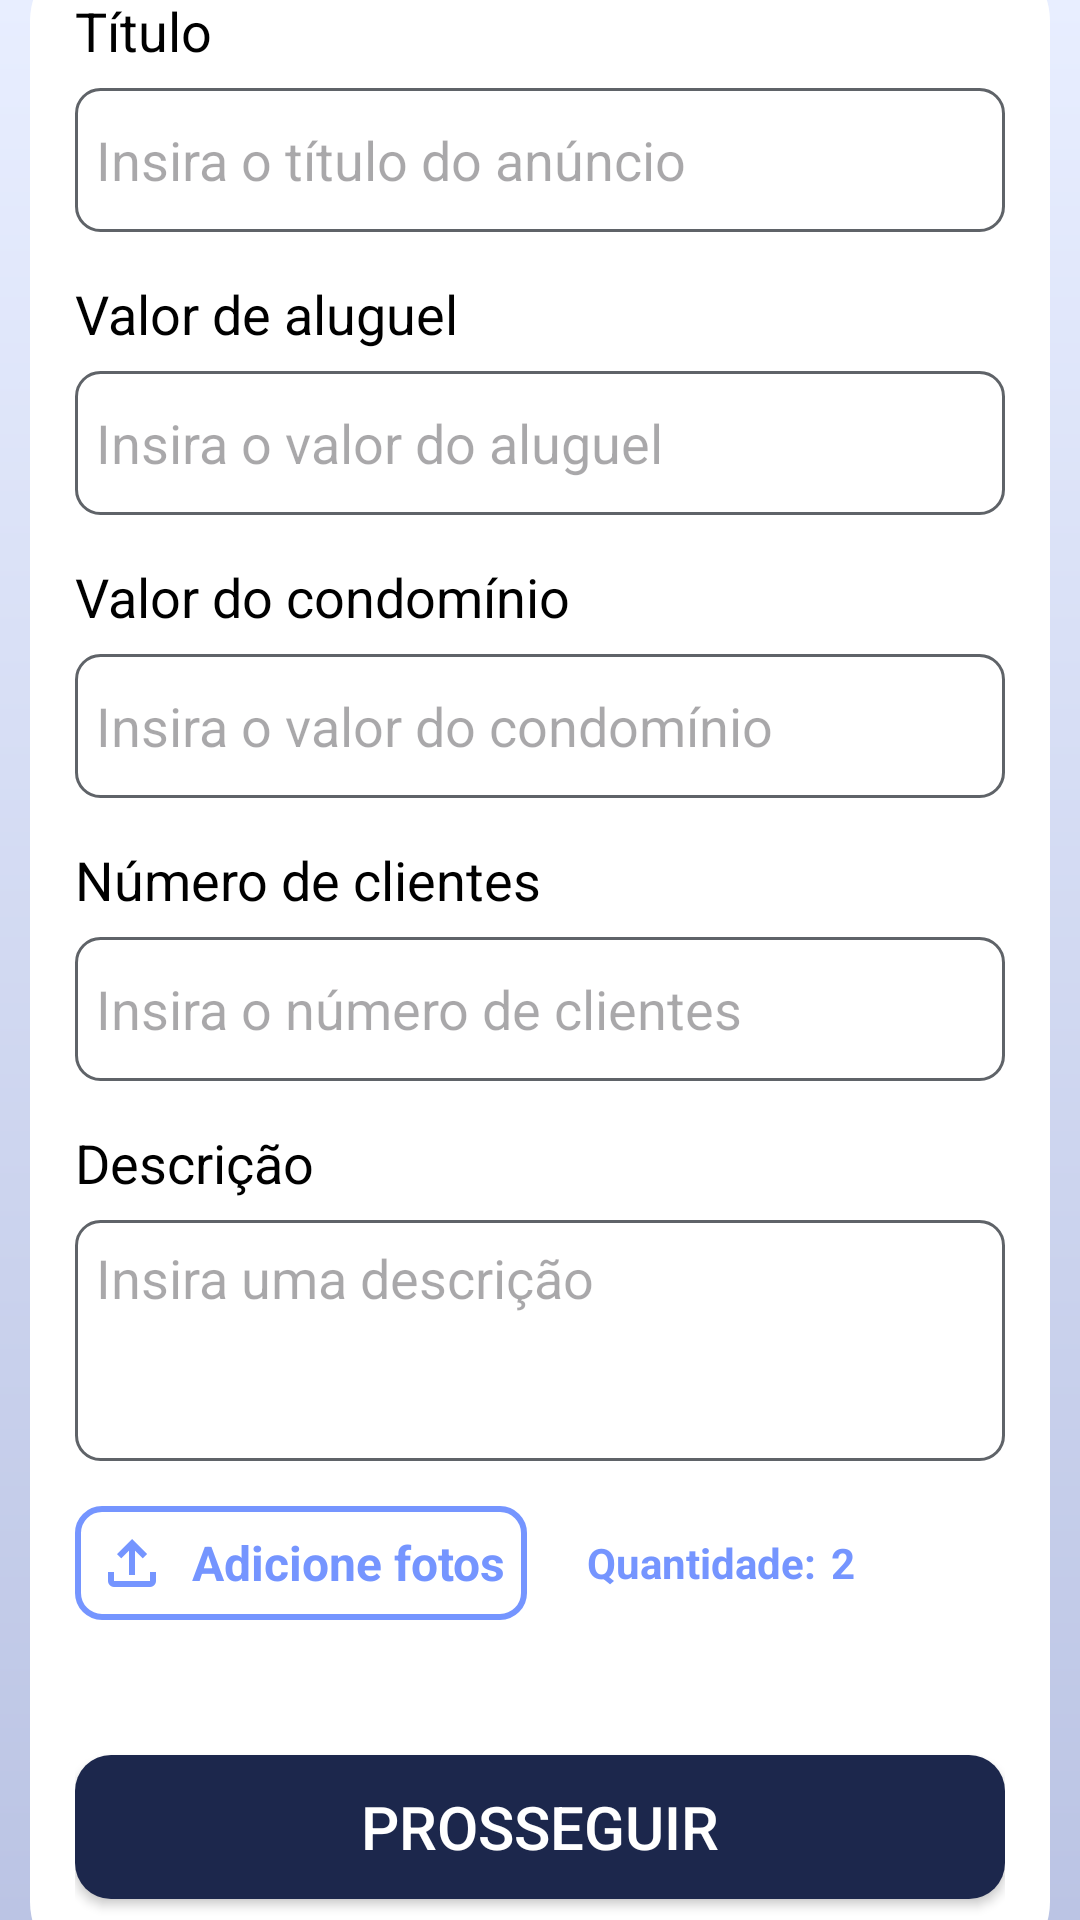

Named icons in this screenshot (1080x1920) and their bounding boxes, detection(x1, y1, x2, y2):
Icone usado para simbolizar envio de arquivos: detection(108, 1539, 156, 1587)
